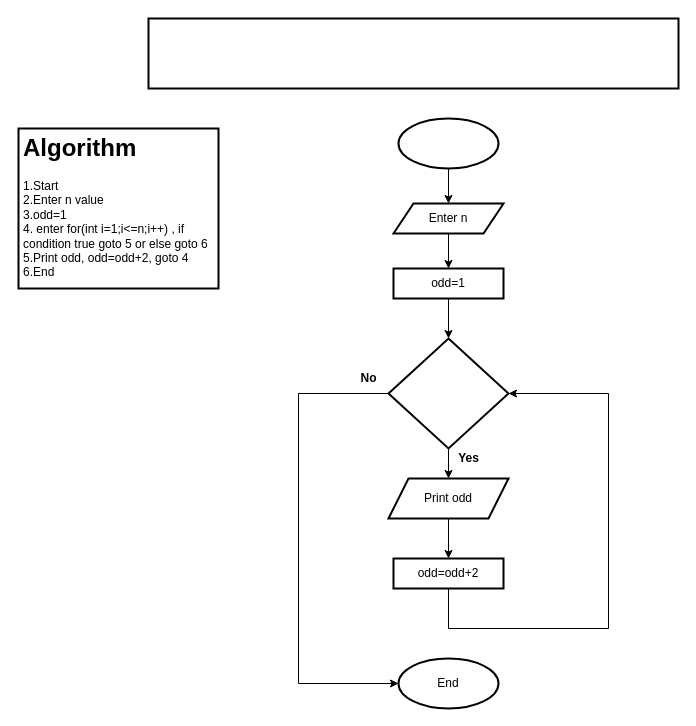
The diagram is 696 pixels wide and 726 high, and some of its shapes have lost their labels. The shapes that lost their labels are listed below. From the top down, each one's centre as x and y in pixels, then its label:
At point 413,53: "Print Odd Series Upto n no.".
At point 448,143: "Start".
At point 448,393: "for(int i=1;i<=n;i++)".
